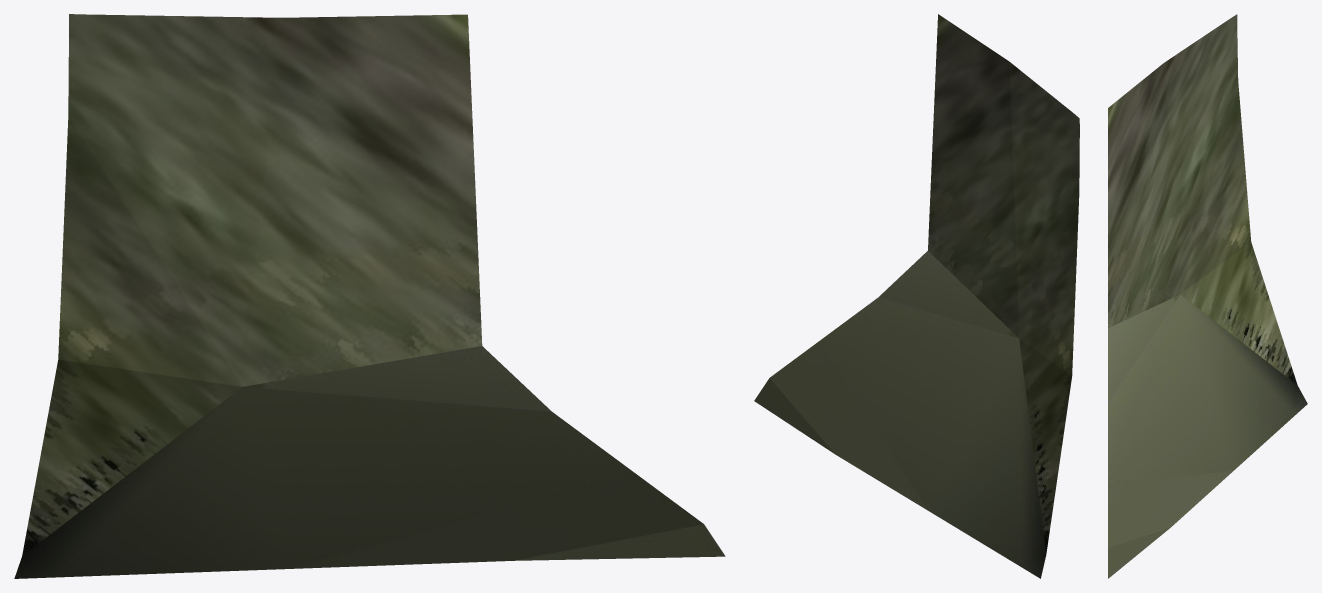
3 renders of one model, left to right at view 1: azimuth 30°, elevation 25°; view 2: azimuth 150°, elevation 25°; view 3: azimuth 270°, elevation 25°, orthographic. The views are drawn at different scales.
Size of the model in its own units: 2.84 by 2.95 by 1.37.
Materials: 2 (2 with a texture image).
